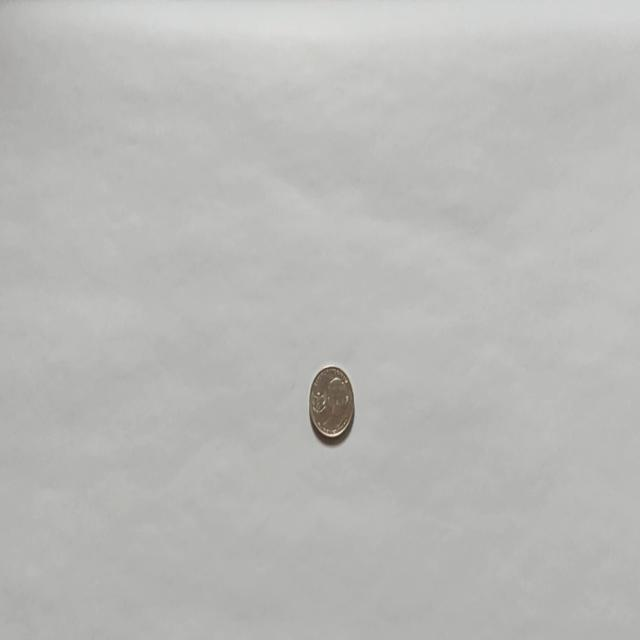seribu rupiah koin: (307, 363, 355, 441)
